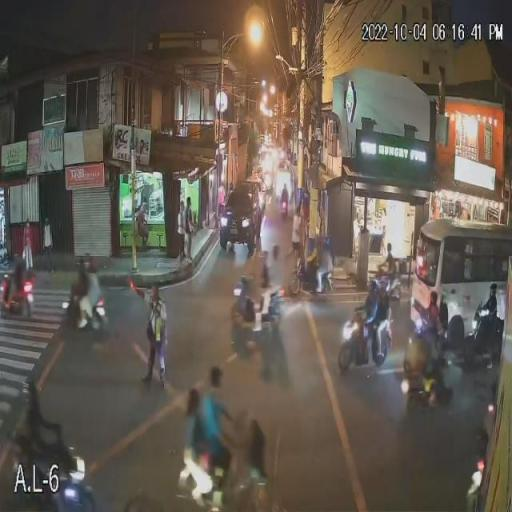helmet: (23, 379, 43, 407), (85, 252, 99, 272), (365, 278, 381, 295), (379, 276, 392, 294), (304, 238, 318, 254), (76, 254, 86, 274), (489, 283, 501, 298), (258, 250, 269, 265)
motorcycle: (7, 438, 100, 512), (227, 275, 288, 331), (338, 312, 393, 371), (462, 304, 503, 362), (60, 293, 110, 332), (286, 257, 336, 295), (0, 272, 38, 316), (321, 236, 333, 252)
rider: (18, 407, 64, 484), (249, 264, 272, 332), (478, 298, 499, 370), (354, 295, 376, 363), (80, 272, 102, 328), (8, 255, 25, 310), (72, 270, 87, 325), (375, 293, 387, 358), (315, 252, 335, 291), (300, 248, 317, 287)
